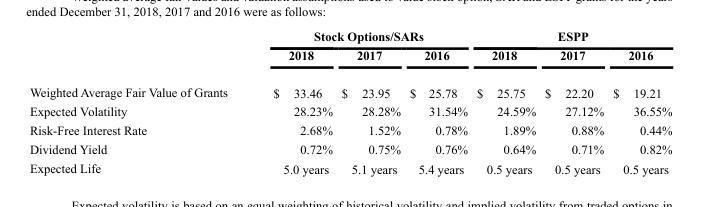table: (28, 29, 671, 175)
table column: (28, 29, 249, 175), (249, 29, 336, 175), (336, 29, 404, 175), (471, 29, 539, 175), (539, 29, 607, 175), (404, 29, 471, 175), (607, 29, 671, 175)
table column header: (28, 29, 671, 73)
table row: (28, 45, 671, 73), (28, 73, 671, 101), (28, 101, 671, 120), (28, 120, 671, 139), (28, 139, 671, 158), (28, 158, 671, 175), (28, 29, 671, 45)
table spanning cell: (249, 29, 471, 45), (471, 29, 671, 45)
